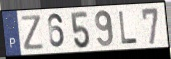5: (69, 10, 91, 50)
6: (47, 12, 67, 51)
7: (140, 7, 161, 46)
9: (94, 10, 115, 49)
L: (118, 10, 139, 45)
Z: (19, 14, 45, 52)
